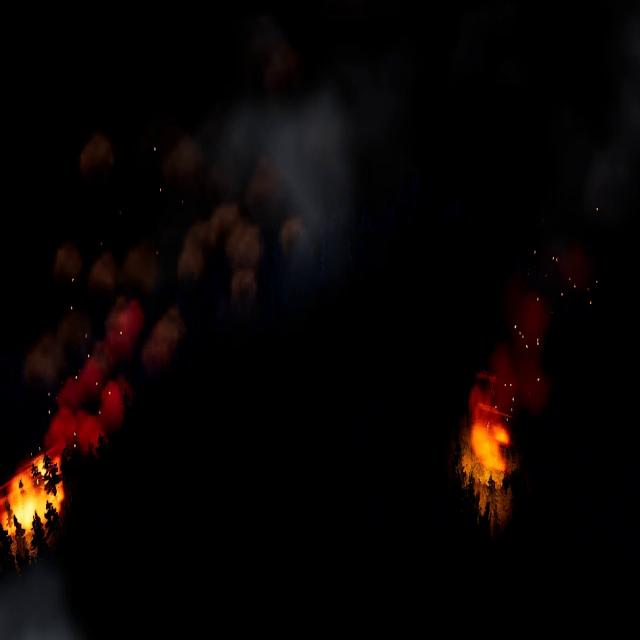fire: (464, 379, 516, 515), (0, 454, 64, 541)
smoke: (22, 70, 359, 470), (552, 94, 636, 301), (479, 289, 555, 414), (2, 560, 98, 640)
